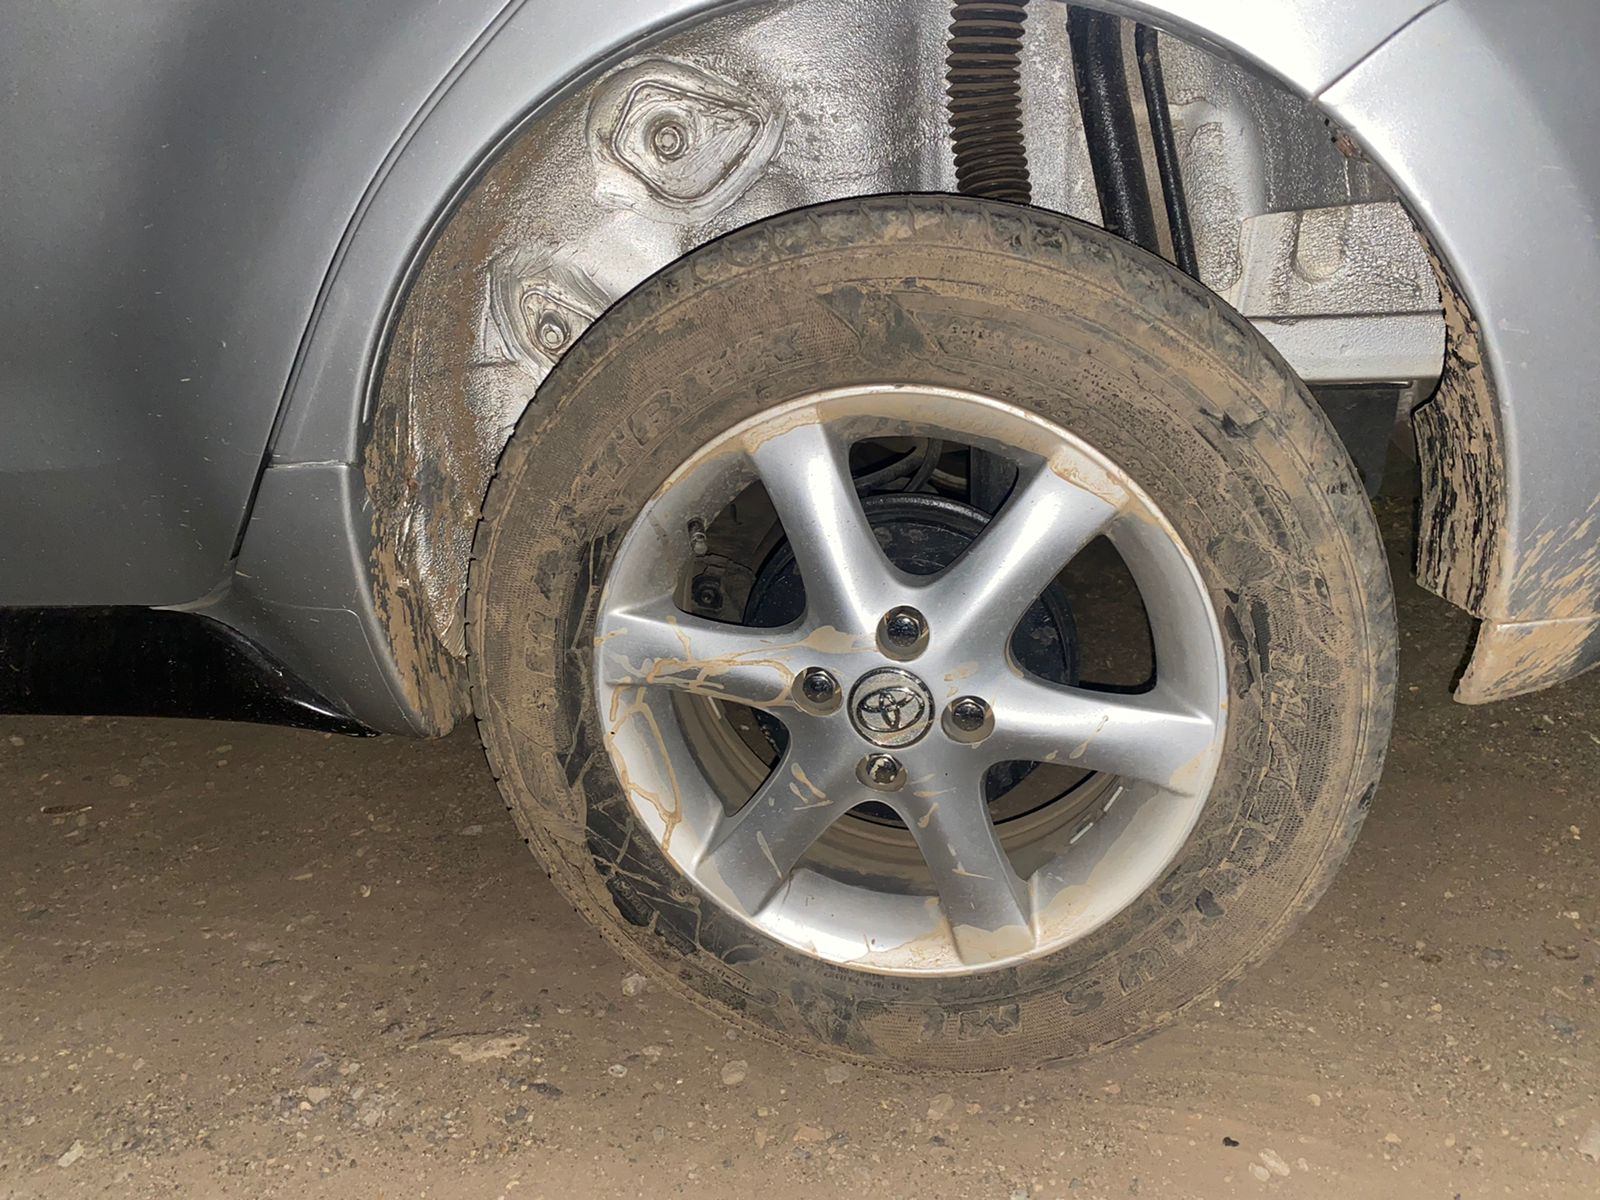wheel: (463, 191, 1399, 1076)
